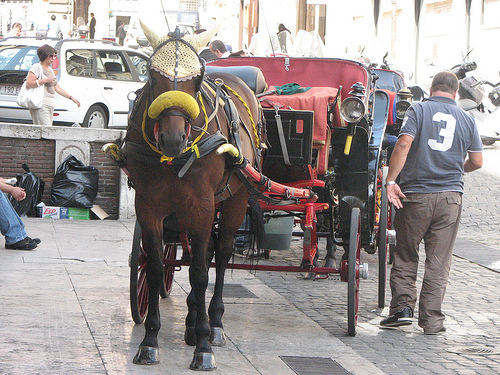horse: (112, 15, 270, 375)
